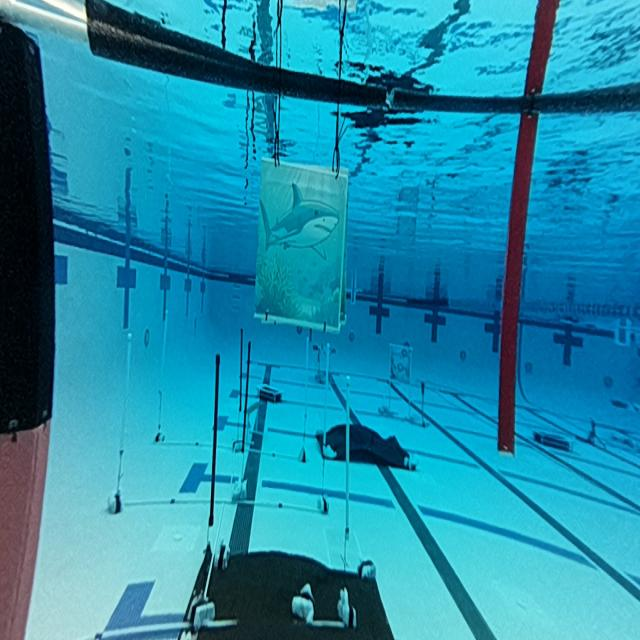round_nose: (255, 164, 348, 336)
